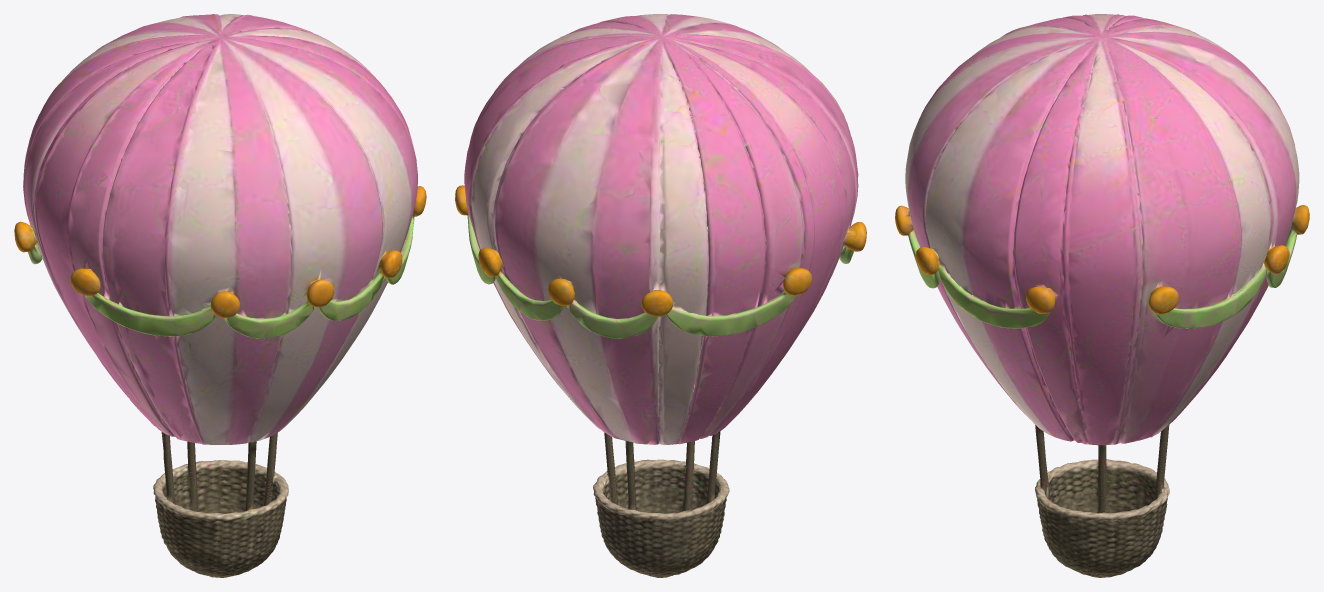
3 views of the same model, side by side, from view 1: azimuth 30°, elevation 25°; view 2: azimuth 150°, elevation 25°; view 3: azimuth 270°, elevation 25° (orthographic).
Bounding box in the file's own units: 1.31 × 1.9 × 1.33.
1 material, 1 textured.
